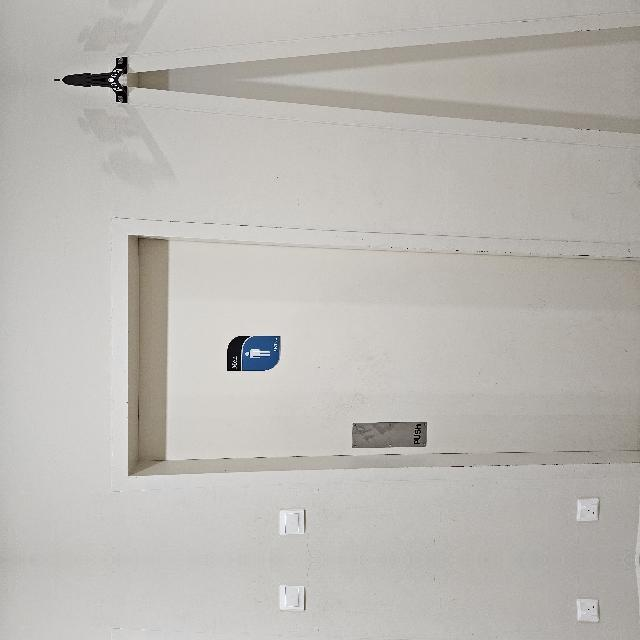door: (94, 208, 326, 640), (94, 402, 326, 640)
